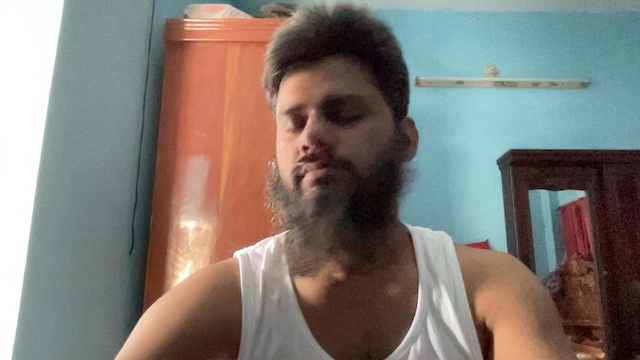Goggles: (249, 17, 406, 241)
